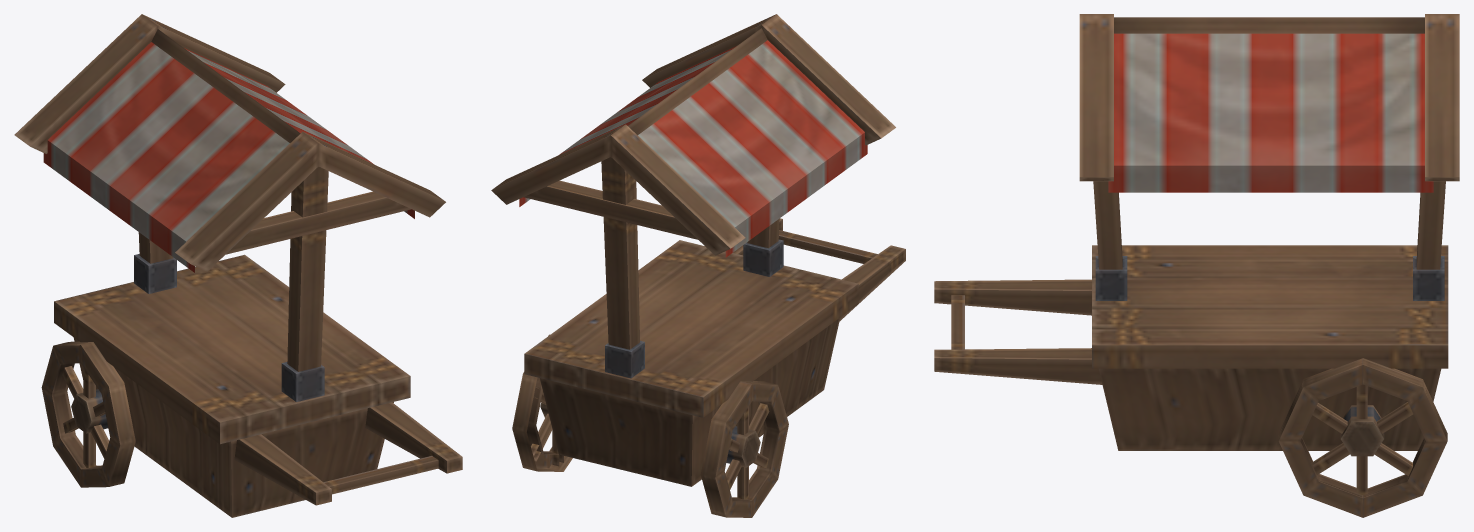
Rendered from paran_house_store_mini.FBX.
3 views of the same model, side by side, from view 1: azimuth 30°, elevation 25°; view 2: azimuth 150°, elevation 25°; view 3: azimuth 270°, elevation 25° (orthographic). The views are drawn at different scales.
Parts seen in each view (by area): view 1: Object110; view 2: Object110; view 3: Object110.
Boxes of the visible parts, box(x1,y1,x2,y2) form: Object110: box(14, 14, 462, 517); Object110: box(491, 14, 905, 517); Object110: box(934, 14, 1459, 517).
Bounding box in the file's own units: 53.03 × 82.34 × 87.87.
